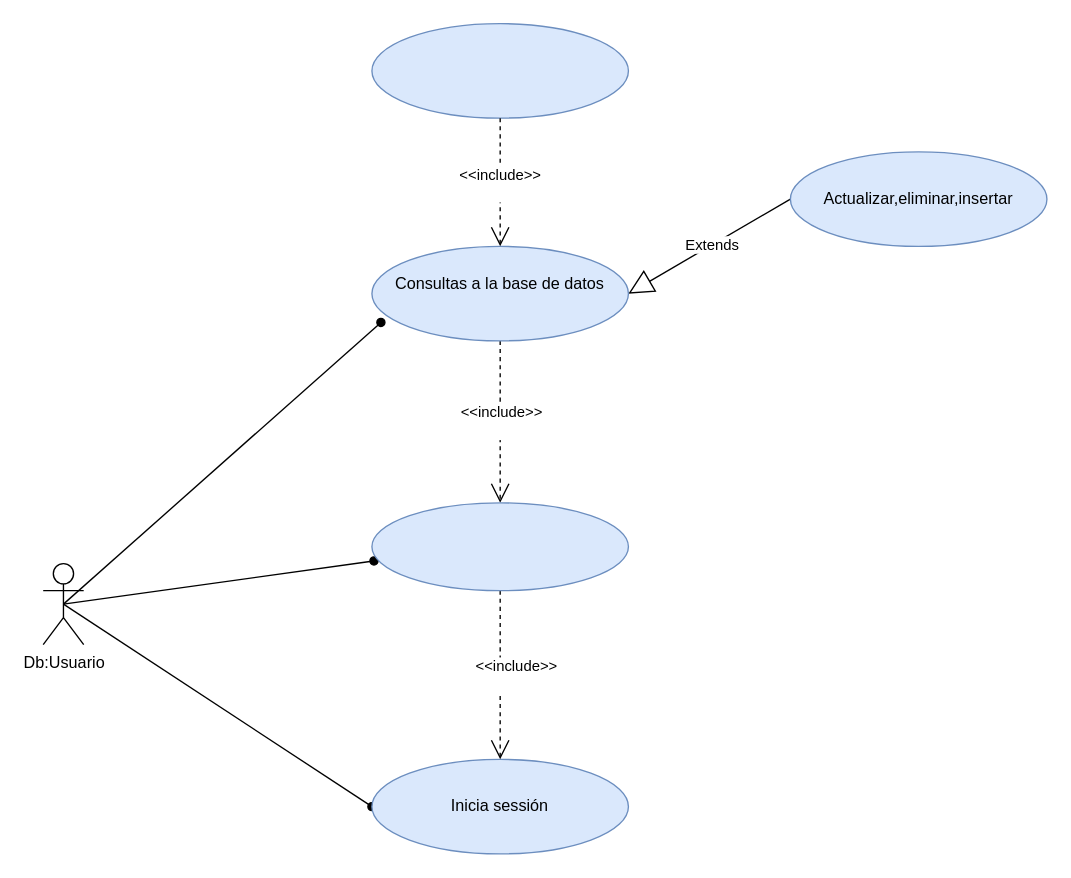
Some shapes in this 1071 by 878 pixel diagram are drawn without their labels. The box of each missing label's shape, as (x1, y1, x2, y2) in pixels:
Actualizan datos: (371, 22, 628, 118)
Realiza la conexion a la base de datos: (371, 502, 628, 591)
